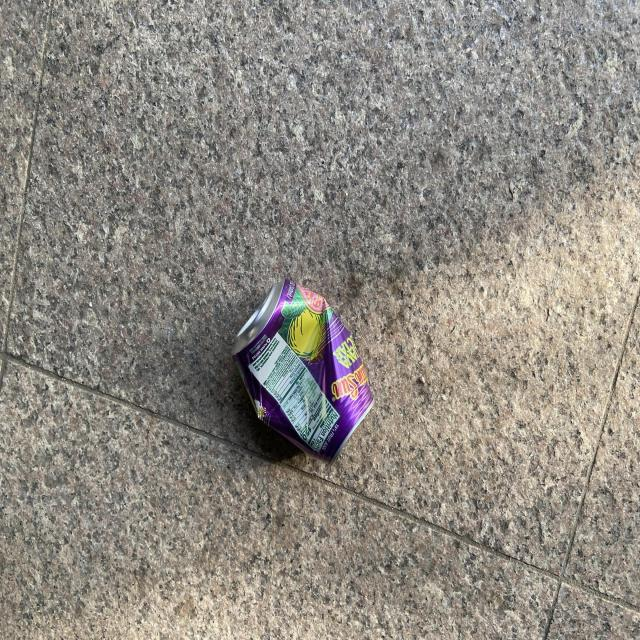can: (232, 279, 374, 462)
